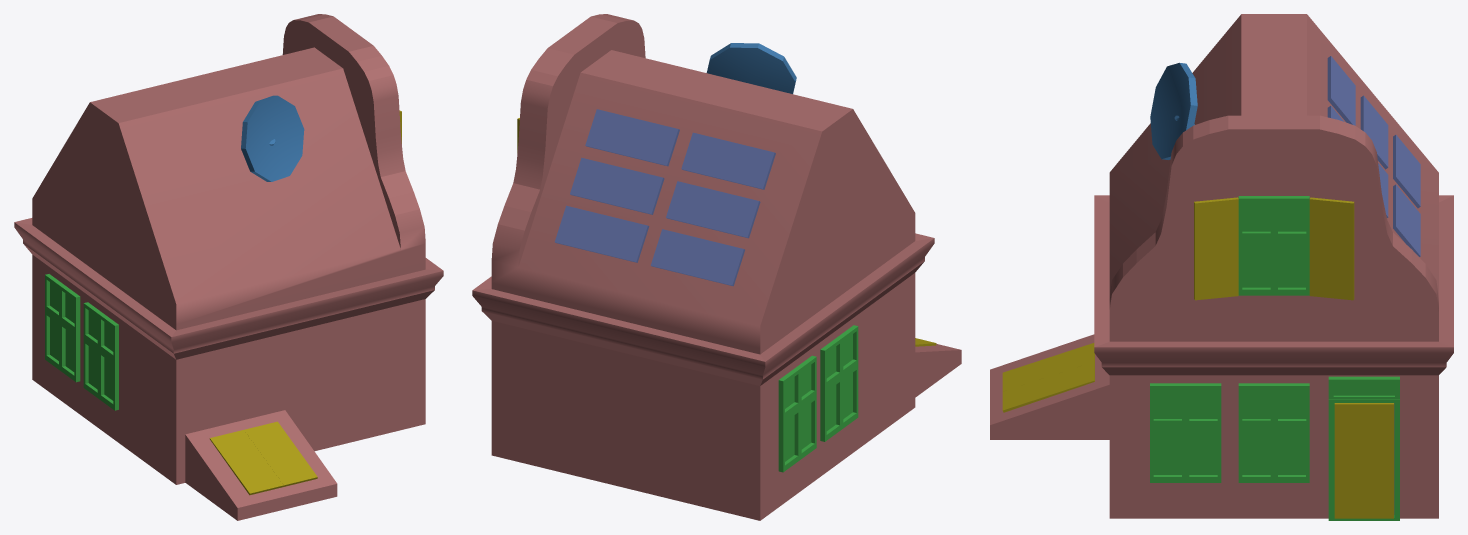
File: House 01.fbx
The picture shows the model from 3 angles, left to right: view 1: azimuth 30°, elevation 25°; view 2: azimuth 150°, elevation 25°; view 3: azimuth 270°, elevation 25°; orthographic projection. The views are drawn at different scales.
Visible parts, largest first — view 1: pCube64, pCube83, pCylinder2, pCube76, pCube75, pCube84, pCube85; view 2: pCube64, pCube76, pCube75, pCube78, pCube77, pCube80, pCube79, pCube82, pCube81, pCylinder2, pCube83; view 3: pCube64, pCube72, pCube66, pCube73, pCube74, pCube83, pCube71, pCube70, pCylinder2, pCube85, pCube65, pCube84 (+5 smaller).
Part boxes in pixels (bbox=[...]): pCube64: bbox=[14, 14, 443, 484]; pCube83: bbox=[185, 410, 337, 520]; pCylinder2: bbox=[241, 95, 304, 181]; pCube76: bbox=[83, 302, 118, 410]; pCube75: bbox=[45, 274, 80, 382]; pCube84: bbox=[209, 430, 283, 495]; pCube85: bbox=[244, 421, 317, 486]; pCube64: bbox=[472, 14, 934, 520]; pCube76: bbox=[820, 325, 858, 441]; pCube75: bbox=[778, 355, 816, 472]; pCube78: bbox=[585, 109, 679, 166]; pCube77: bbox=[681, 132, 775, 189]; pCube80: bbox=[666, 181, 760, 238]; pCube79: bbox=[570, 157, 664, 214]; pCube82: bbox=[650, 229, 744, 286]; pCube81: bbox=[554, 205, 649, 262]; pCylinder2: bbox=[706, 43, 796, 93]; pCube83: bbox=[915, 344, 961, 397]; pCube64: bbox=[1094, 14, 1453, 518]; pCube72: bbox=[1238, 383, 1309, 482]; pCube66: bbox=[1238, 196, 1309, 295]; pCube73: bbox=[1150, 383, 1221, 482]; pCube74: bbox=[1334, 403, 1393, 518]; pCube83: bbox=[990, 334, 1109, 439]; pCube71: bbox=[1309, 197, 1354, 300]; pCube70: bbox=[1194, 197, 1238, 300]; pCylinder2: bbox=[1150, 62, 1197, 159]; pCube85: bbox=[1002, 362, 1094, 412]; pCube65: bbox=[1328, 399, 1399, 520]; pCube84: bbox=[1002, 343, 1094, 391].
Bounding box in the file's own units: 650 × 771 × 833.
